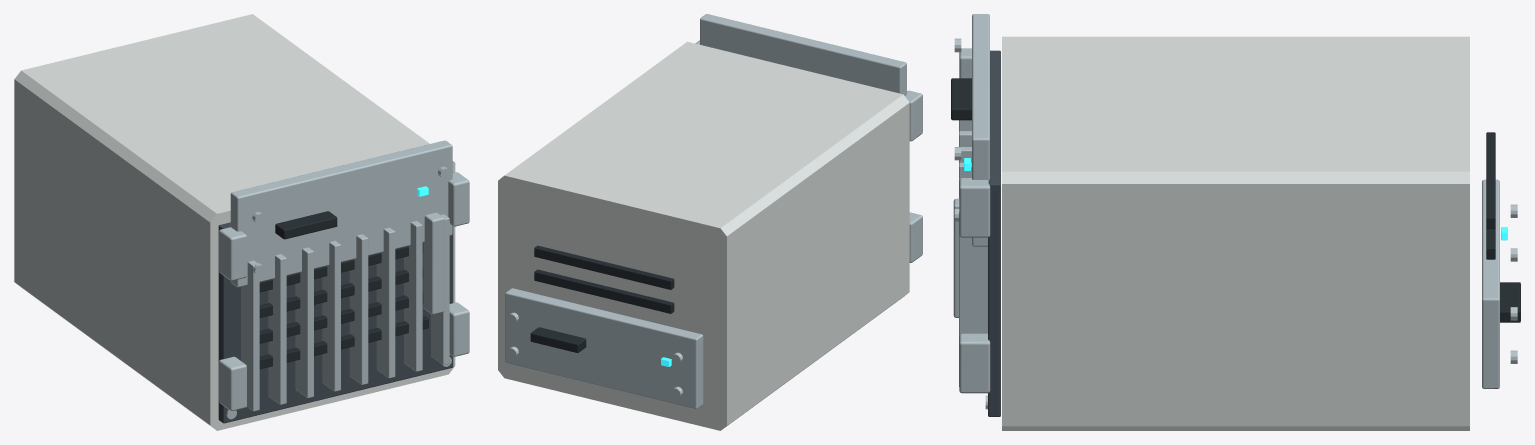
File: data-centre-infiltration-kit-data-centre-infiltration--fb77452d__29230.glb
3 renders of one model, left to right at view 1: azimuth 30°, elevation 25°; view 2: azimuth 150°, elevation 25°; view 3: azimuth 270°, elevation 25°, orthographic. The views are drawn at different scales.
Visible parts, largest first — view 1: data-centre-infiltration-kit-blade-enclosure; view 2: data-centre-infiltration-kit-blade-enclosure; view 3: data-centre-infiltration-kit-blade-enclosure.
Part boxes in pixels (left/top/right/bottom): data-centre-infiltration-kit-blade-enclosure: left=14, top=14, right=469, bottom=430; data-centre-infiltration-kit-blade-enclosure: left=498, top=14, right=922, bottom=430; data-centre-infiltration-kit-blade-enclosure: left=951, top=14, right=1520, bottom=430.
Size of the model in its own units: 0.65 by 0.6095 by 1.1.
